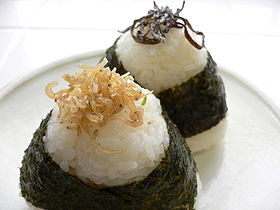plain rice: (73, 132, 142, 164), (133, 41, 180, 70)
